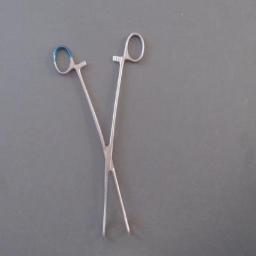Sponge Forceps: (50, 28, 148, 244)
